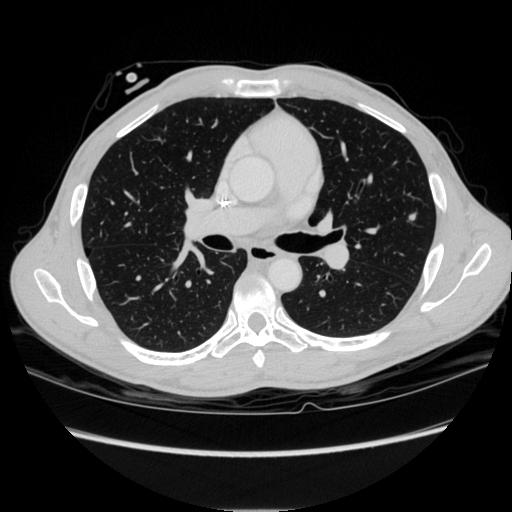nodule: (405, 210, 419, 224)
